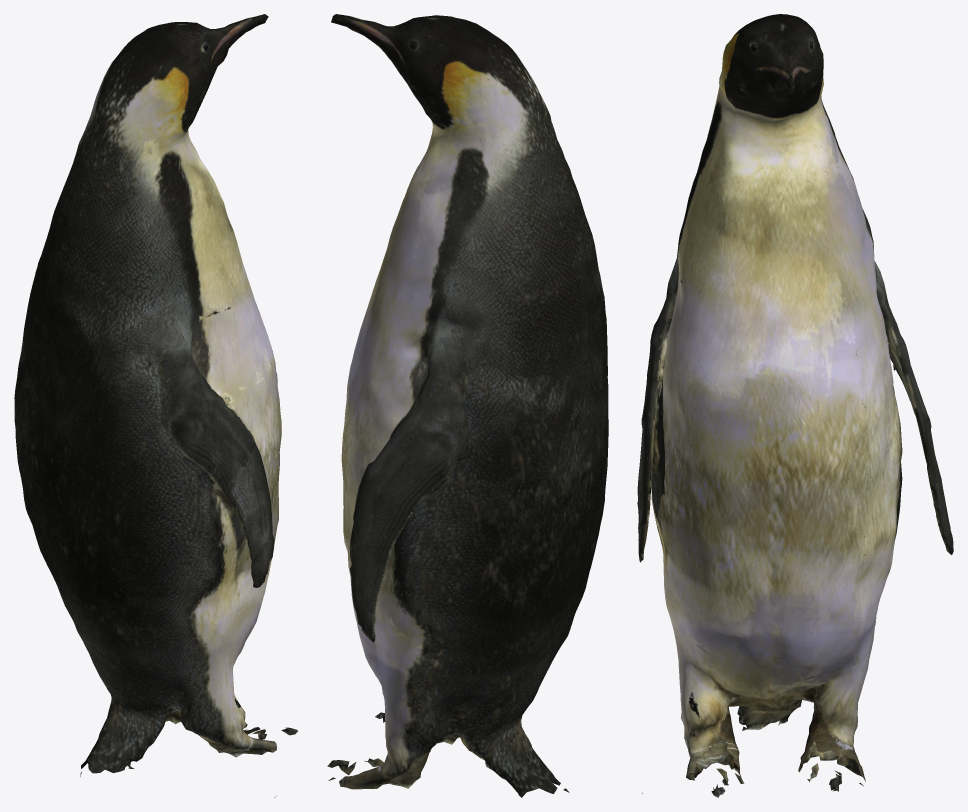
The model's file is penguin.glb.
3 views of the same model, side by side, from view 1: azimuth 30°, elevation 25°; view 2: azimuth 150°, elevation 25°; view 3: azimuth 270°, elevation 25° (orthographic). The views are drawn at different scales.
Size of the model in its own units: 0.344 by 1 by 0.3799.
1 material, 1 textured.
